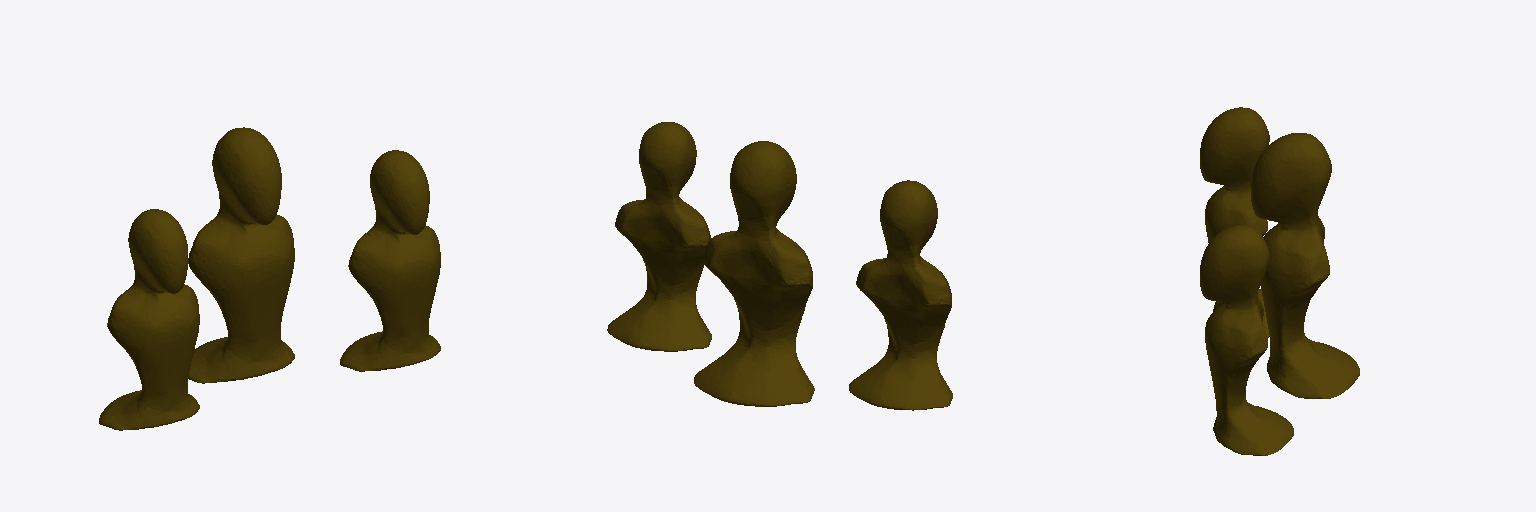
The model's file is Statue.obj.
The picture shows the model from 3 angles: view 1: azimuth 30°, elevation 25°; view 2: azimuth 150°, elevation 25°; view 3: azimuth 270°, elevation 25°; orthographic projection.
Parts seen in each view (by area): view 1: Group1.000_Group1.003, Group1.002_Group1.004, Group1.001; view 2: Group1.000_Group1.003, Group1.001, Group1.002_Group1.004; view 3: Group1.000_Group1.003, Group1.002_Group1.004, Group1.001.
Part boxes in pixels (x1,y1,x2,y2): Group1.000_Group1.003: (188,127,294,383); Group1.002_Group1.004: (340,150,440,371); Group1.001: (99,209,199,430); Group1.000_Group1.003: (694,141,814,406); Group1.001: (849,180,952,410); Group1.002_Group1.004: (607,122,711,351); Group1.000_Group1.003: (1251,133,1359,398); Group1.002_Group1.004: (1200,225,1293,455); Group1.001: (1200,107,1269,337).
Bounding box in the file's own units: 4.52 × 3.05 × 1.87.